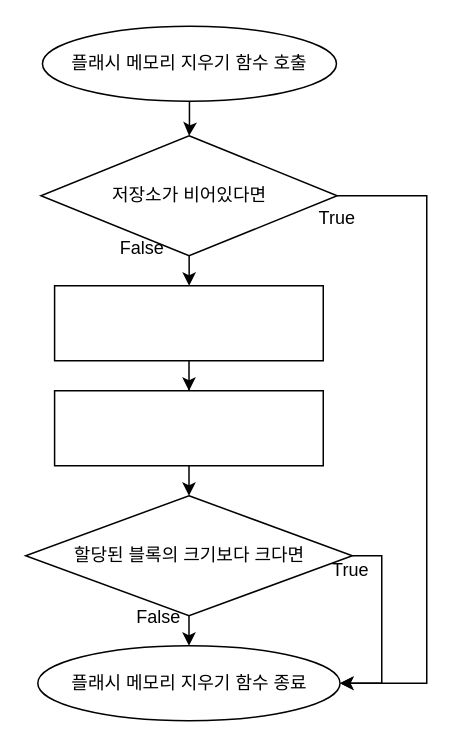
This 467x747 diagram has some shape labels left out. The centre of each missing label's shape, as x and y in pixels:
할당된 섹터의 크기를 기반으로 블록 크기를 계산: the point at 188,322
함수의 인자 값(PSN)과 할당된 블록의 크기를 비교: the point at 188,427
